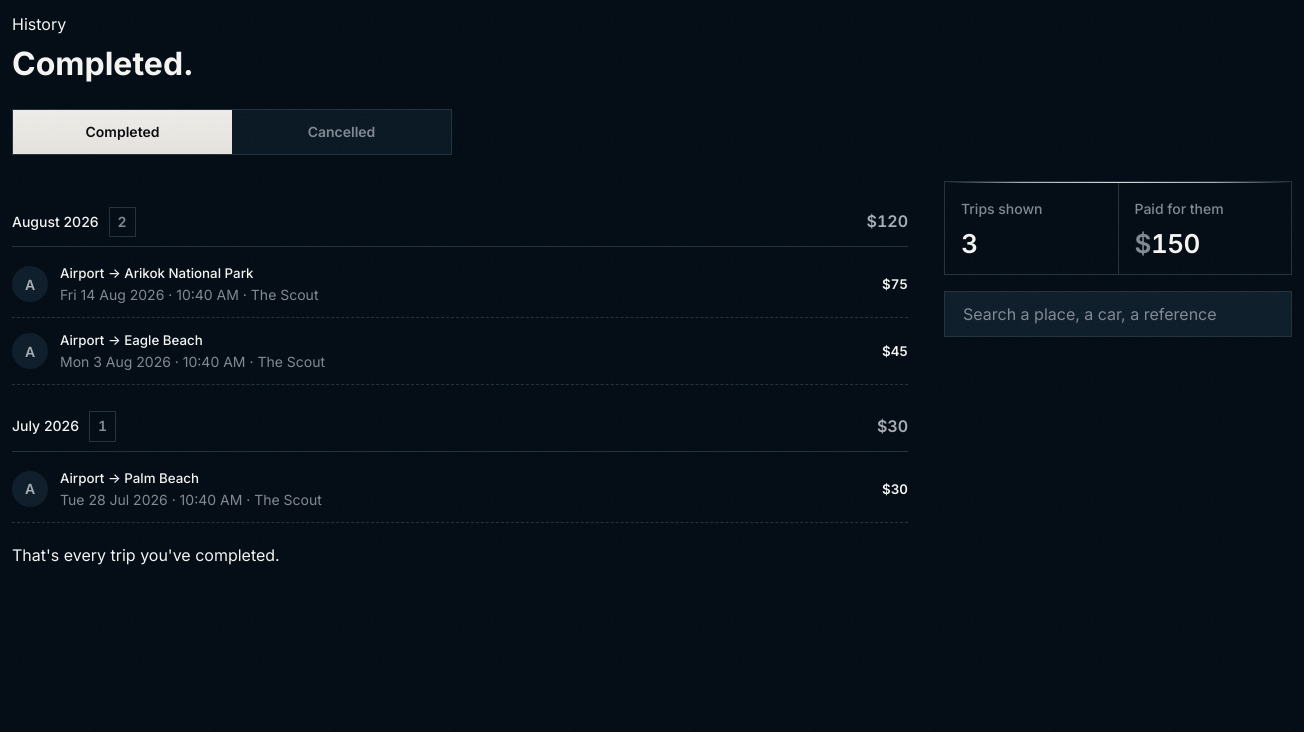
History › finds a trip by where it went, not only by when
expect the text "Airport → Arikok National Park" is shown: met, box x1=60 y1=265 x2=254 y2=281
Type "arikok" into the search field. click: (1118, 314)
box: x1=944 y1=291 x2=1292 y2=337
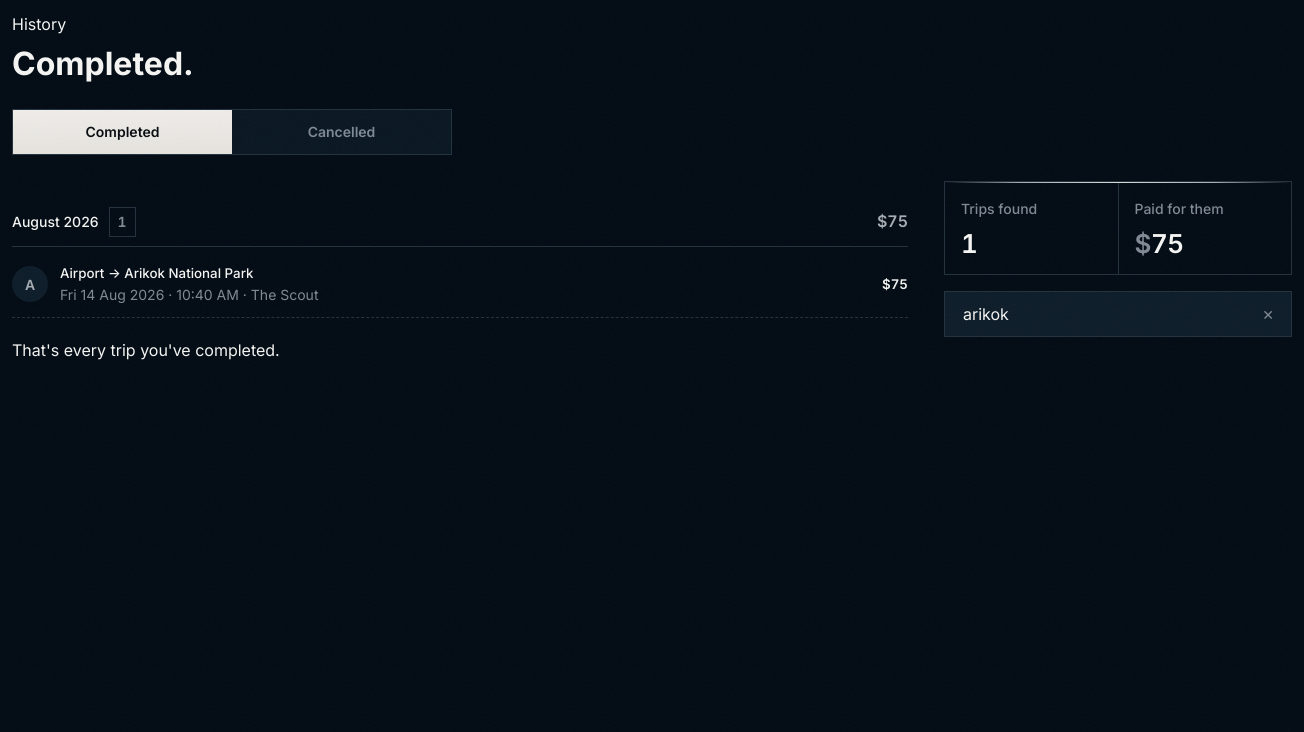
expect the text "Airport → Arikok National Park" is shown: met, box x1=60 y1=265 x2=254 y2=281
expect the button "Palm Beach" is gone: met
expect the text "Trips found" is shown: met, box x1=961 y1=200 x2=1037 y2=217
